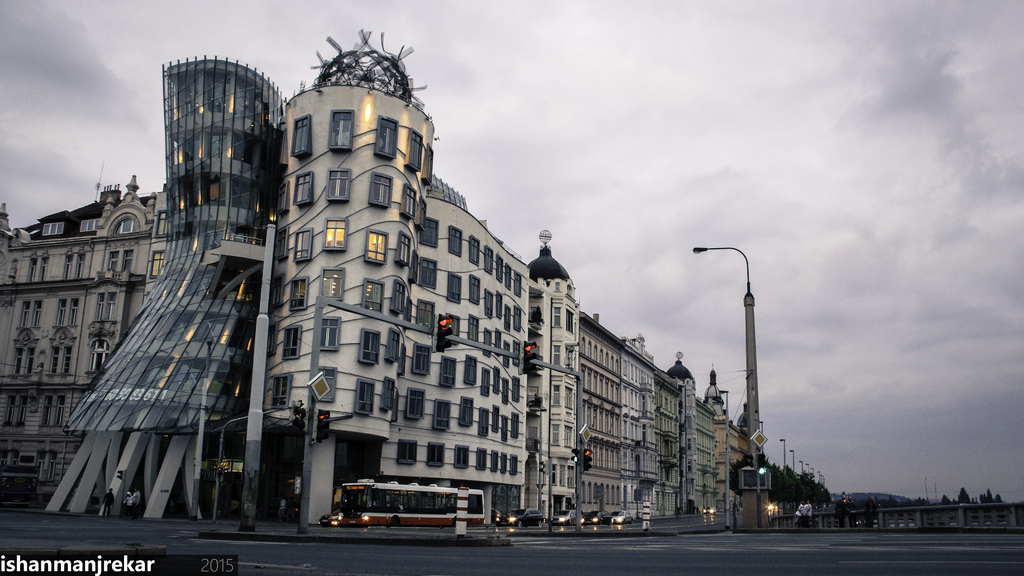Bus: (341, 478, 485, 531)
